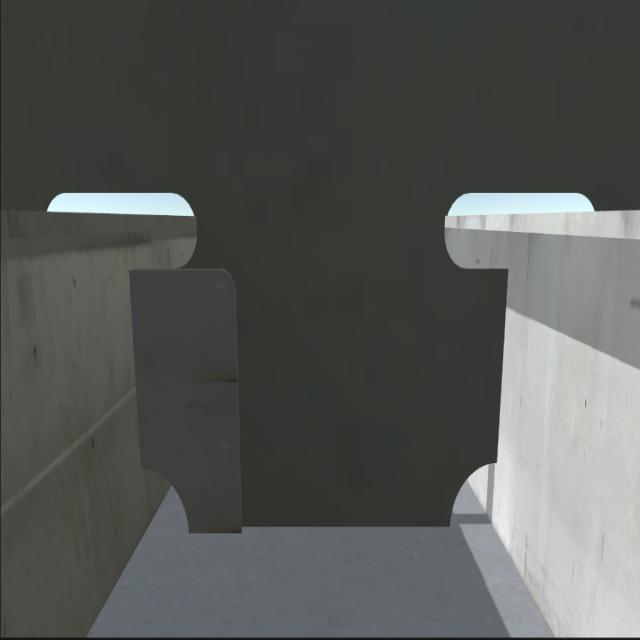fillet_hole: (449, 462, 499, 526), (143, 470, 189, 538)
fillet_yong_jeop_jang: (182, 513, 464, 543)
longi_yong_jeop_jang: (123, 266, 151, 478), (494, 264, 510, 465)
plate_CP05: (132, 267, 245, 536)
